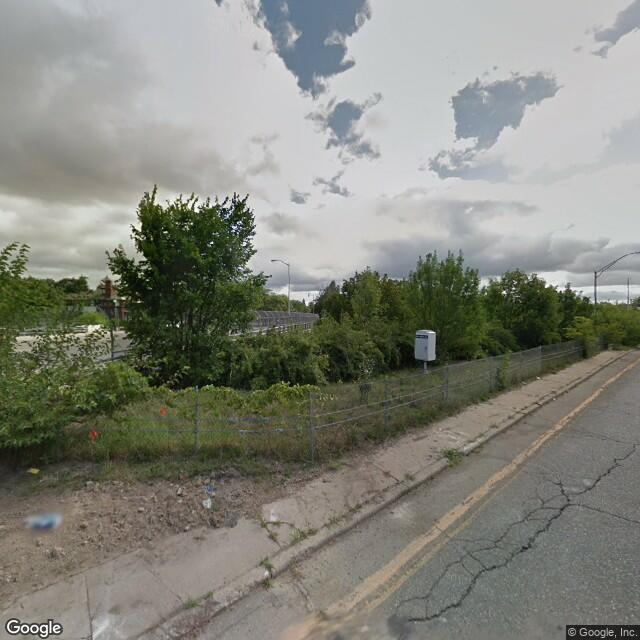litter: (27, 514, 60, 530), (199, 482, 218, 493), (27, 466, 41, 478), (198, 501, 215, 508), (536, 376, 546, 383), (550, 396, 558, 401)
